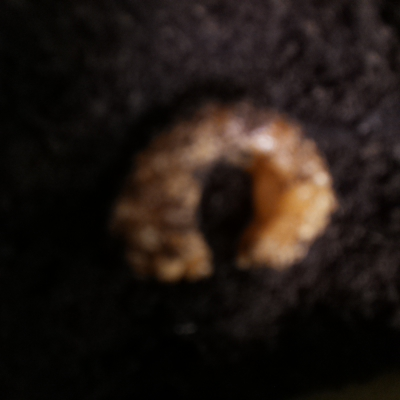eggs: (100, 86, 346, 288)
